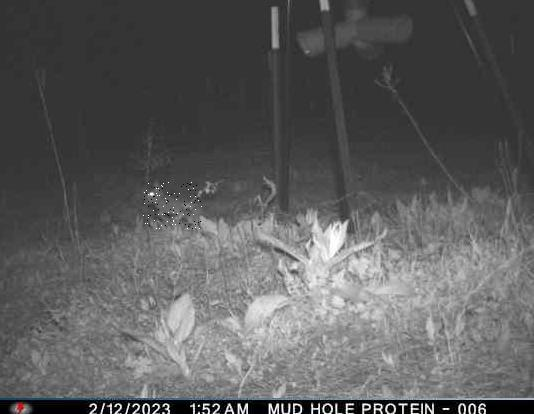Rabbit: (143, 182, 202, 229)
